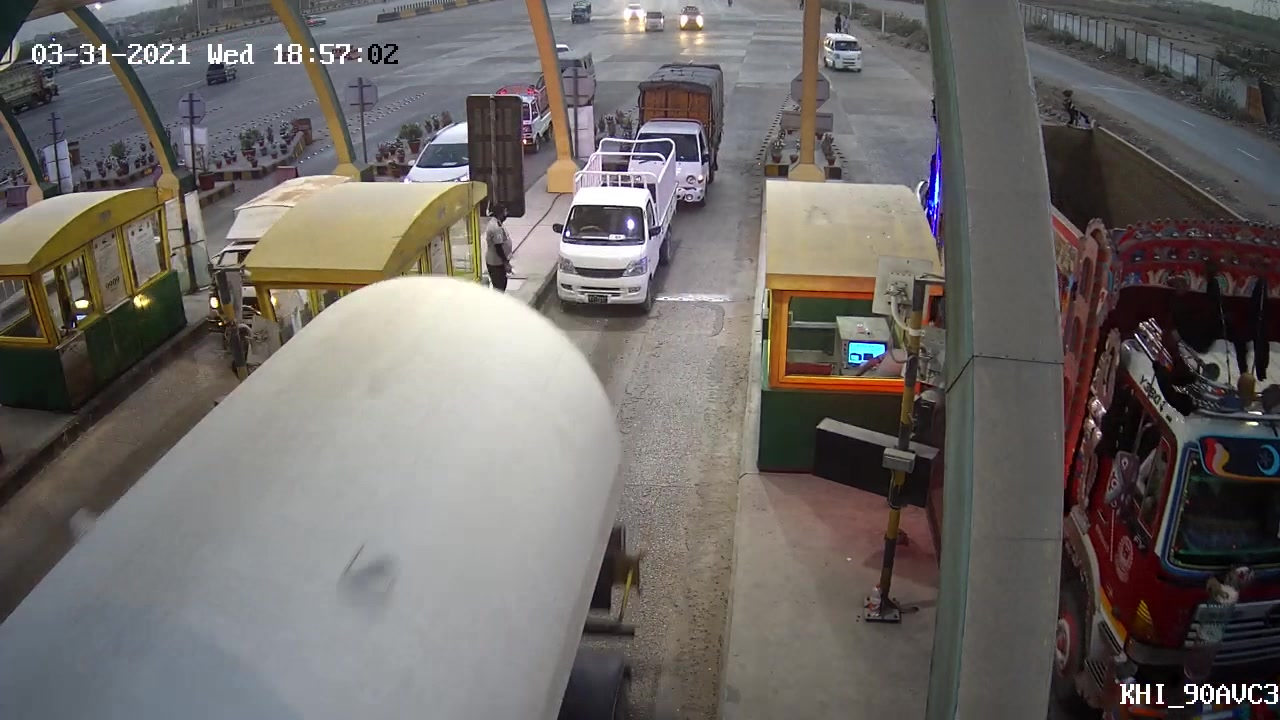F2: (550, 145, 685, 316)
